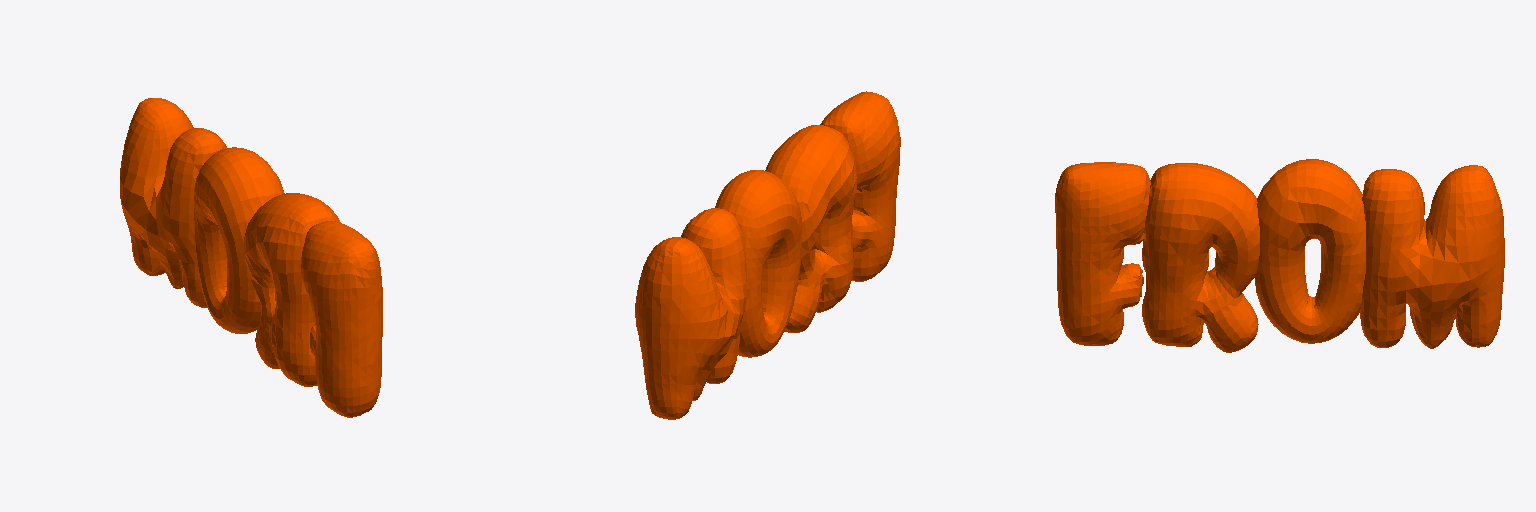
The model's file is 03_from.obj.
3 views of the same model, side by side, from view 1: azimuth 30°, elevation 25°; view 2: azimuth 150°, elevation 25°; view 3: azimuth 270°, elevation 25° (orthographic).
Parts seen in each view (by area): view 1: _from:from; view 2: _from:from; view 3: _from:from.
Boxes of the visible parts, x1=… form: _from:from: x1=120, y1=98, x2=382, y2=417; _from:from: x1=635, y1=91, x2=900, y2=419; _from:from: x1=1055, y1=159, x2=1504, y2=352.
Bounding box in the file's own units: 0.1755 × 0.3656 × 0.8016.